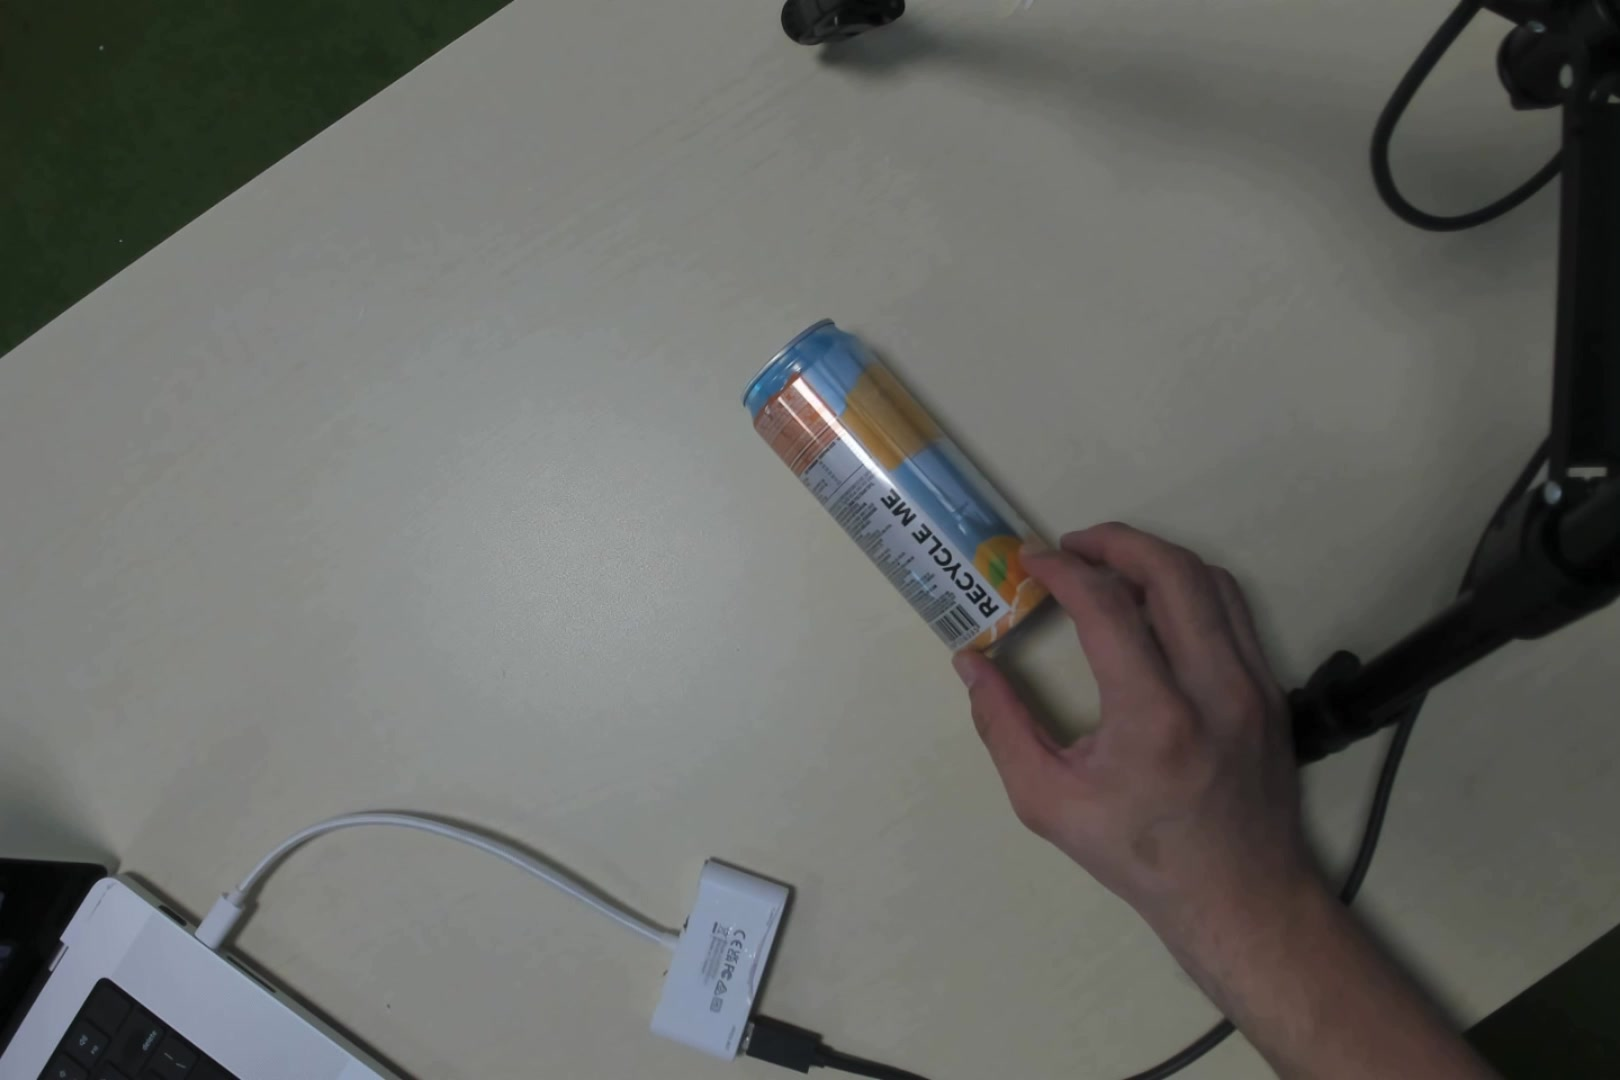SoftDrinks_200-299g_Halal_Healthy: (761, 297, 1081, 706)
